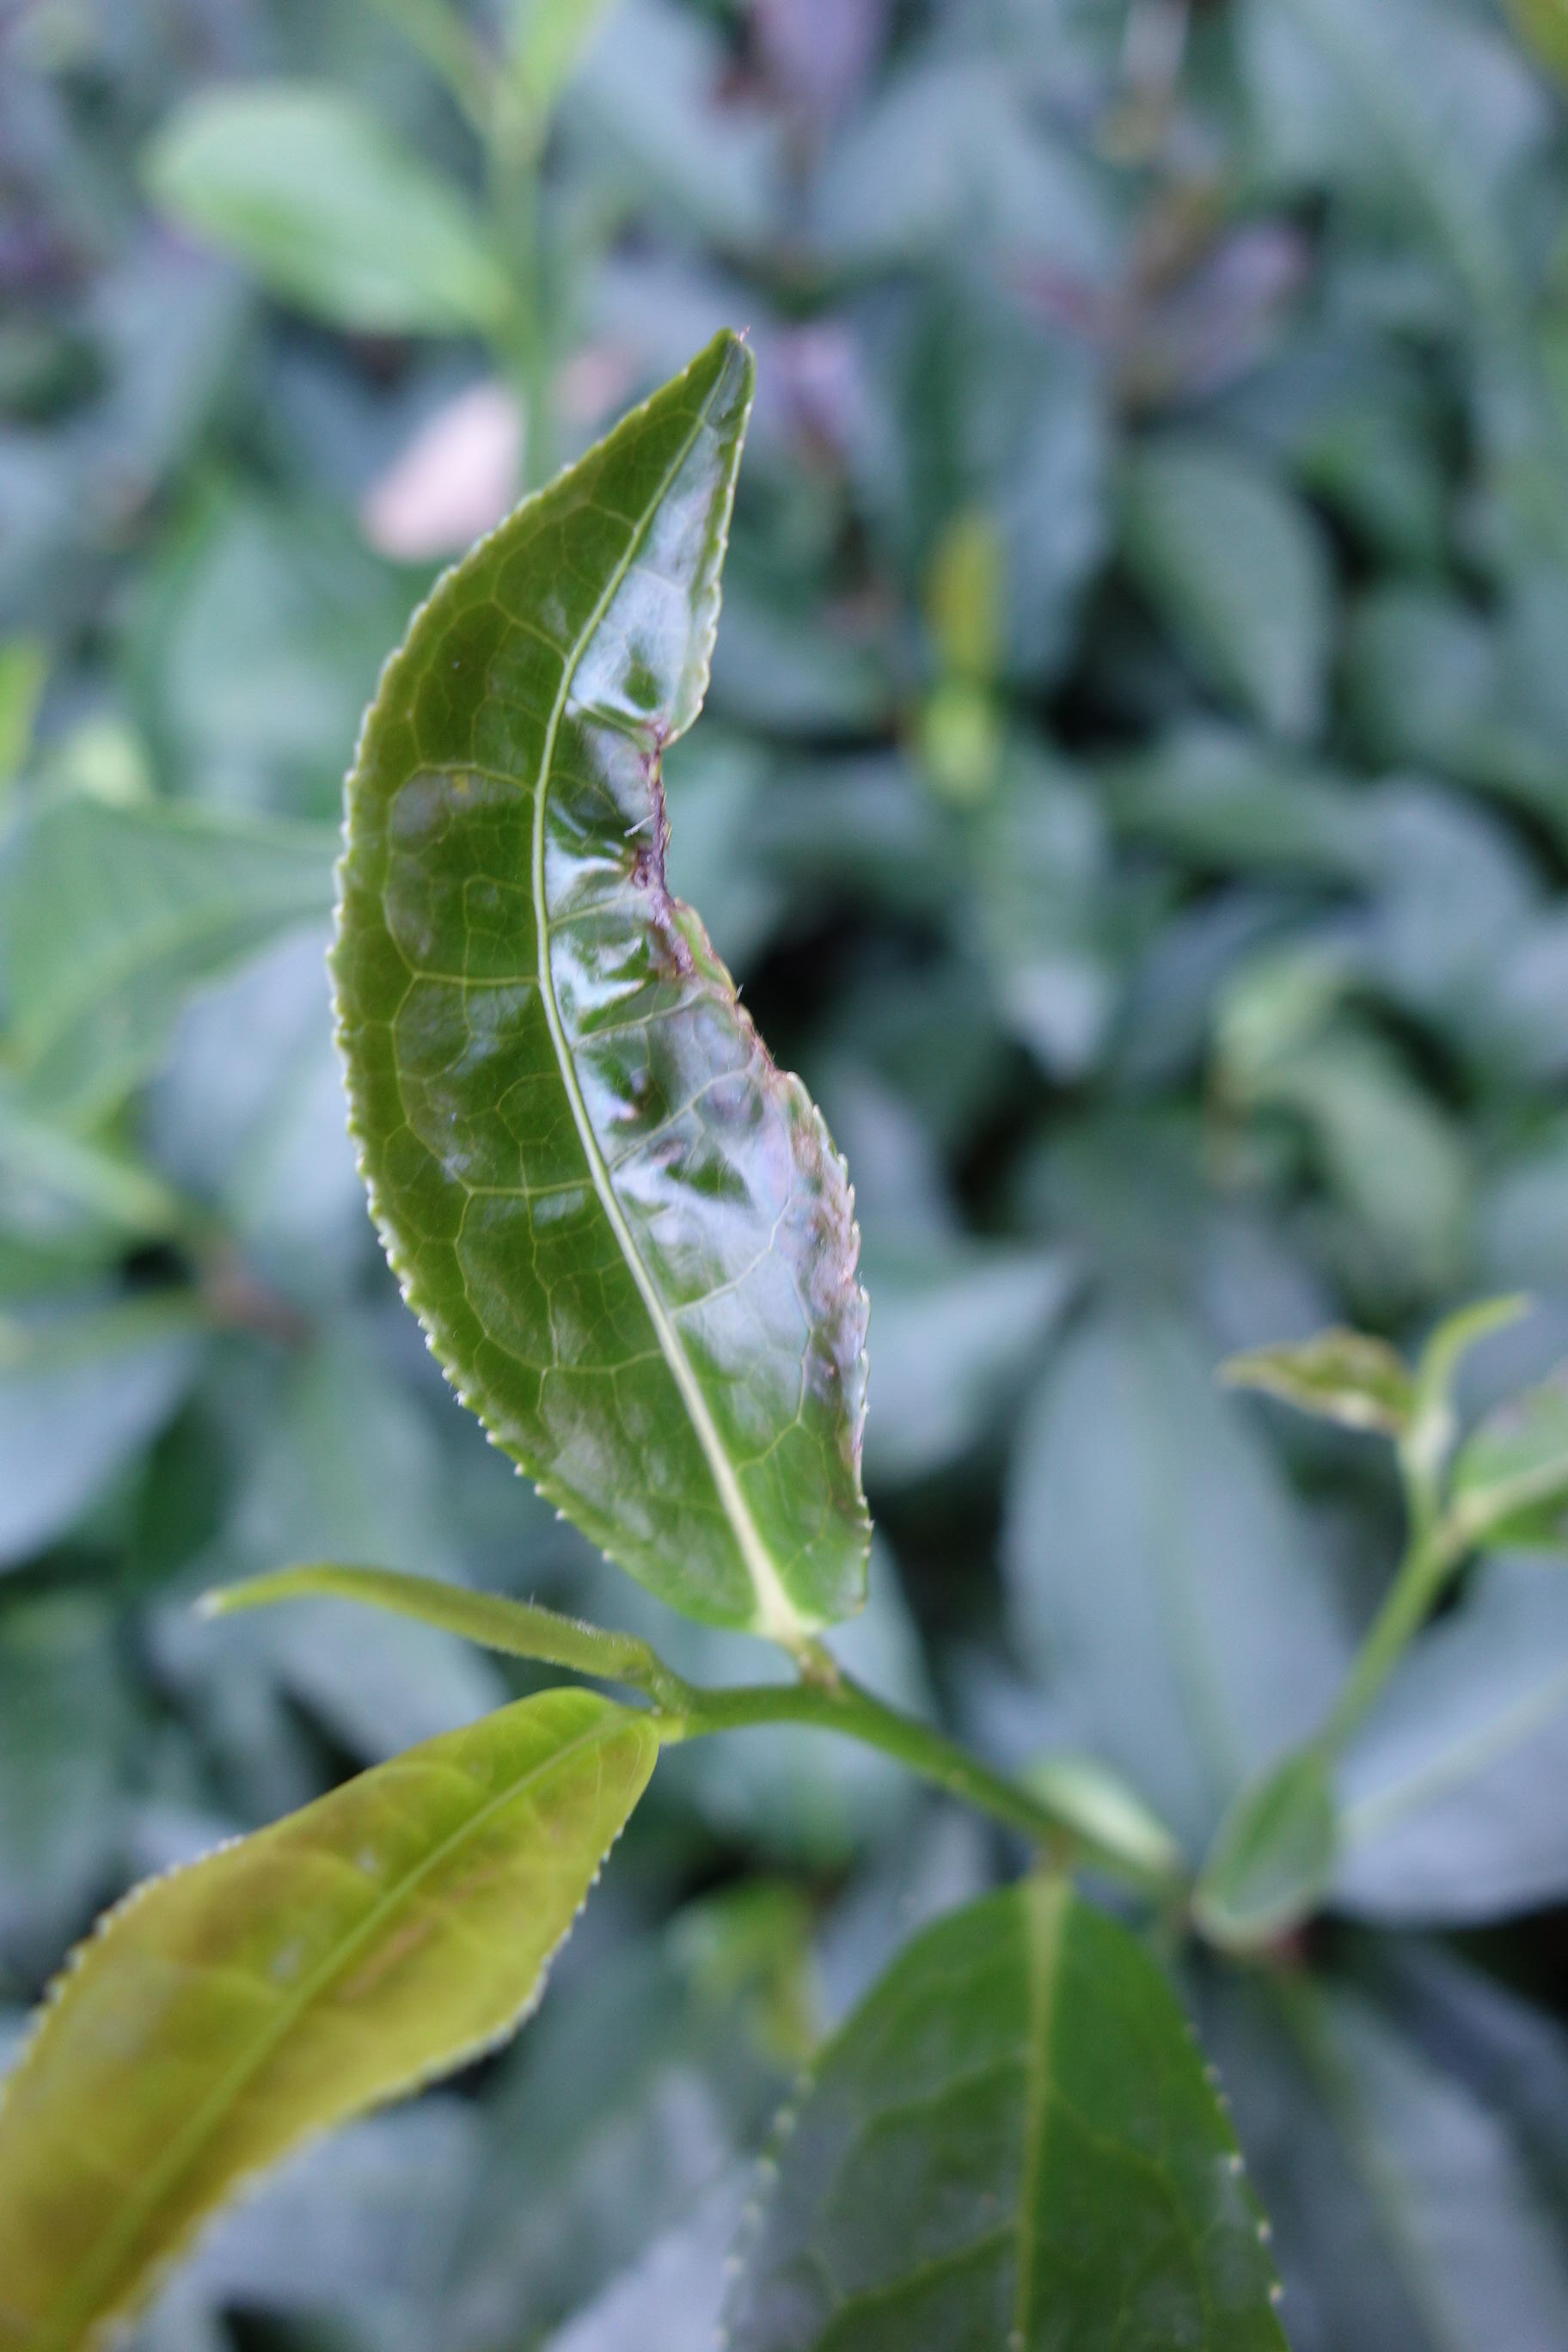chihuo_high: (327, 329, 875, 1647)
tanju_low: (0, 1687, 674, 2352)
